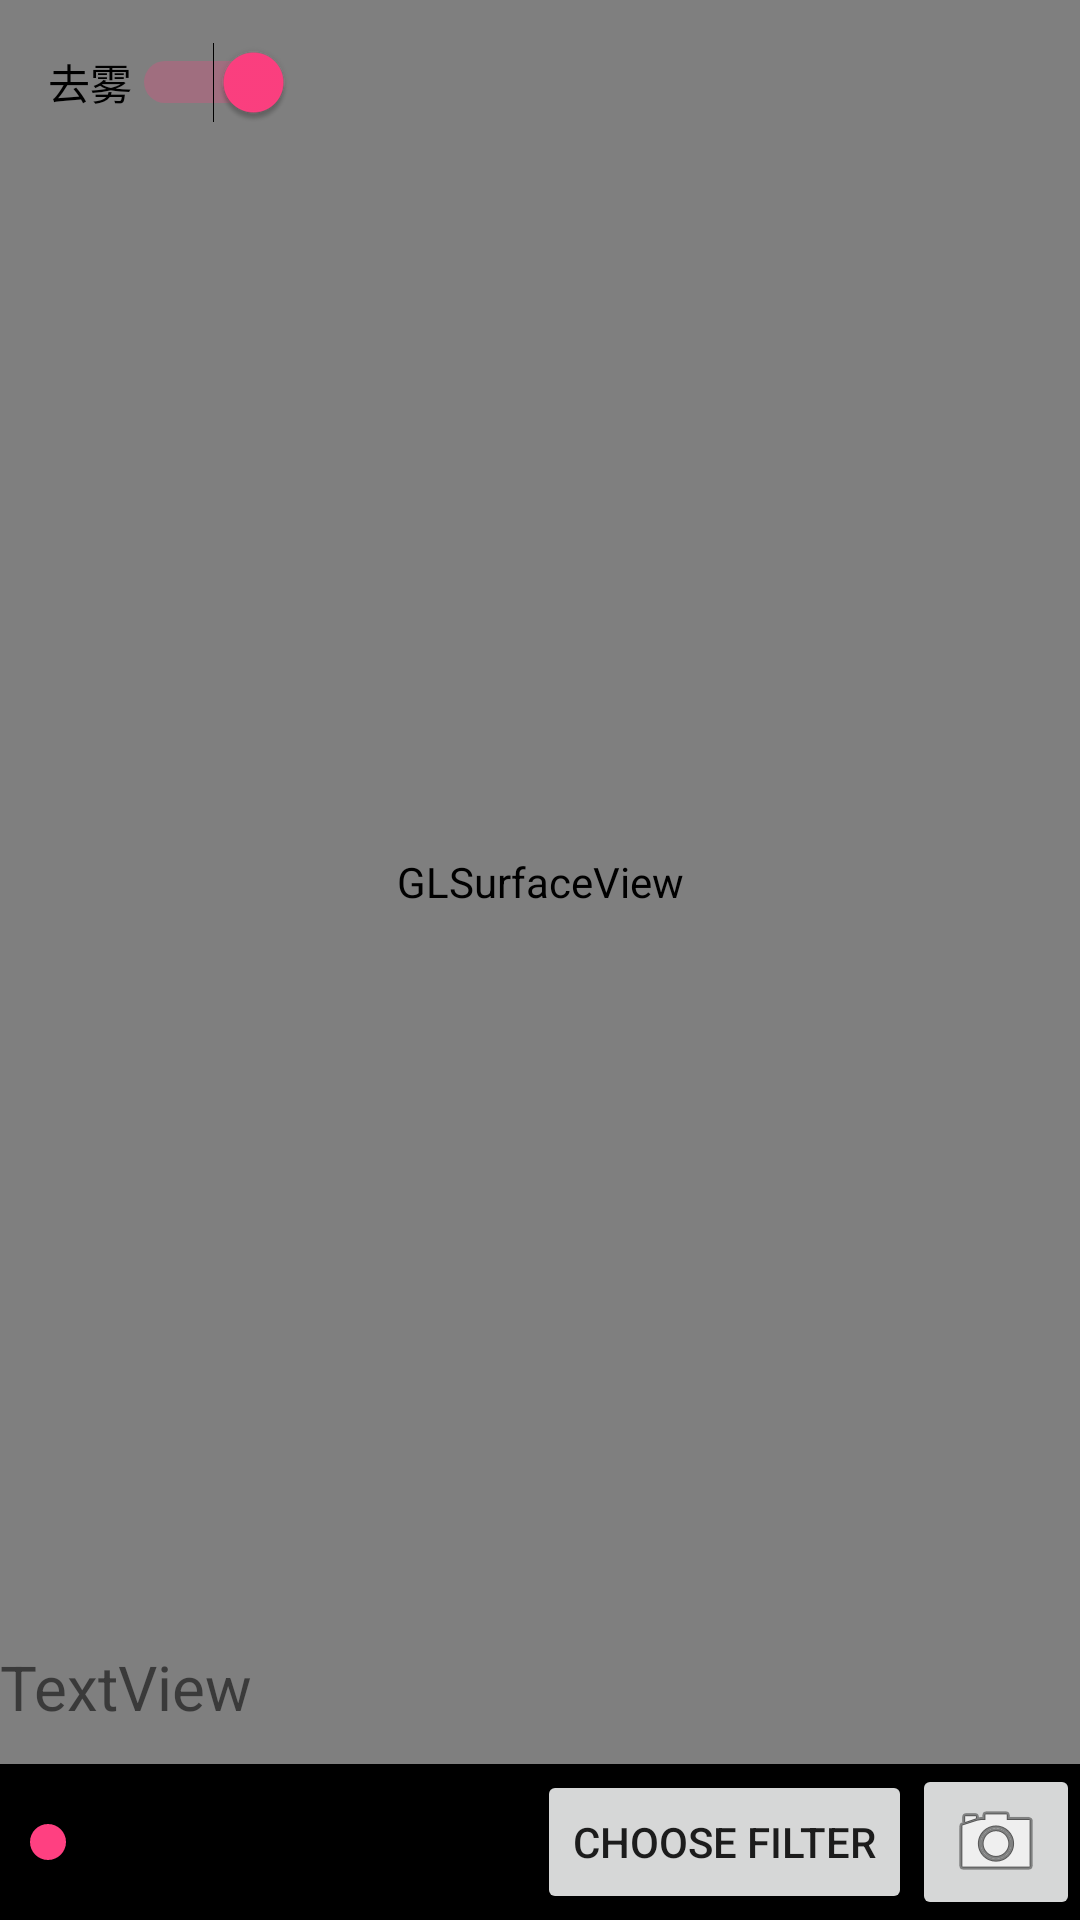

Icon bounding boxes for this 1080 x 1920 phone screenshot, format Rect(x1, y1, x2, y2):
camera: Rect(924, 1782, 1068, 1902)
